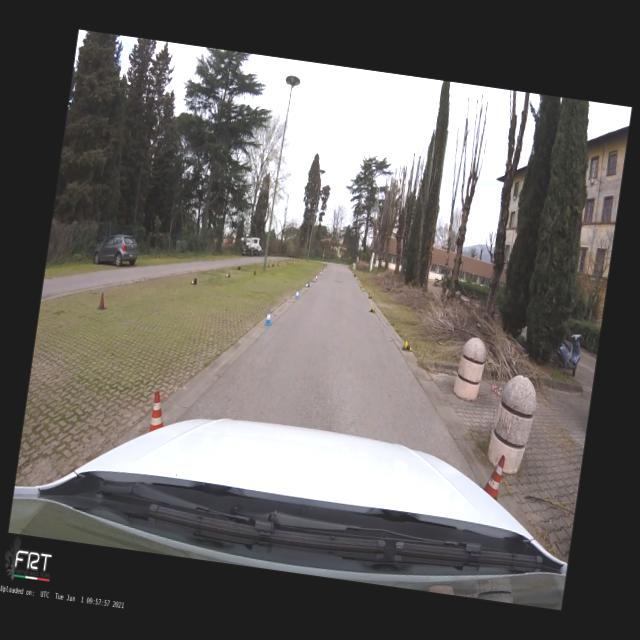blue_cone: (264, 309, 274, 327), (294, 288, 300, 299), (305, 282, 310, 288)
large_orange_cone: (482, 453, 506, 501), (149, 391, 168, 434)
unknown_cone: (97, 292, 109, 311), (190, 278, 198, 285), (226, 272, 230, 277), (254, 268, 256, 275), (238, 266, 240, 270)
yellow_cone: (402, 339, 414, 352), (368, 305, 376, 313), (368, 294, 373, 299), (360, 284, 362, 288)
